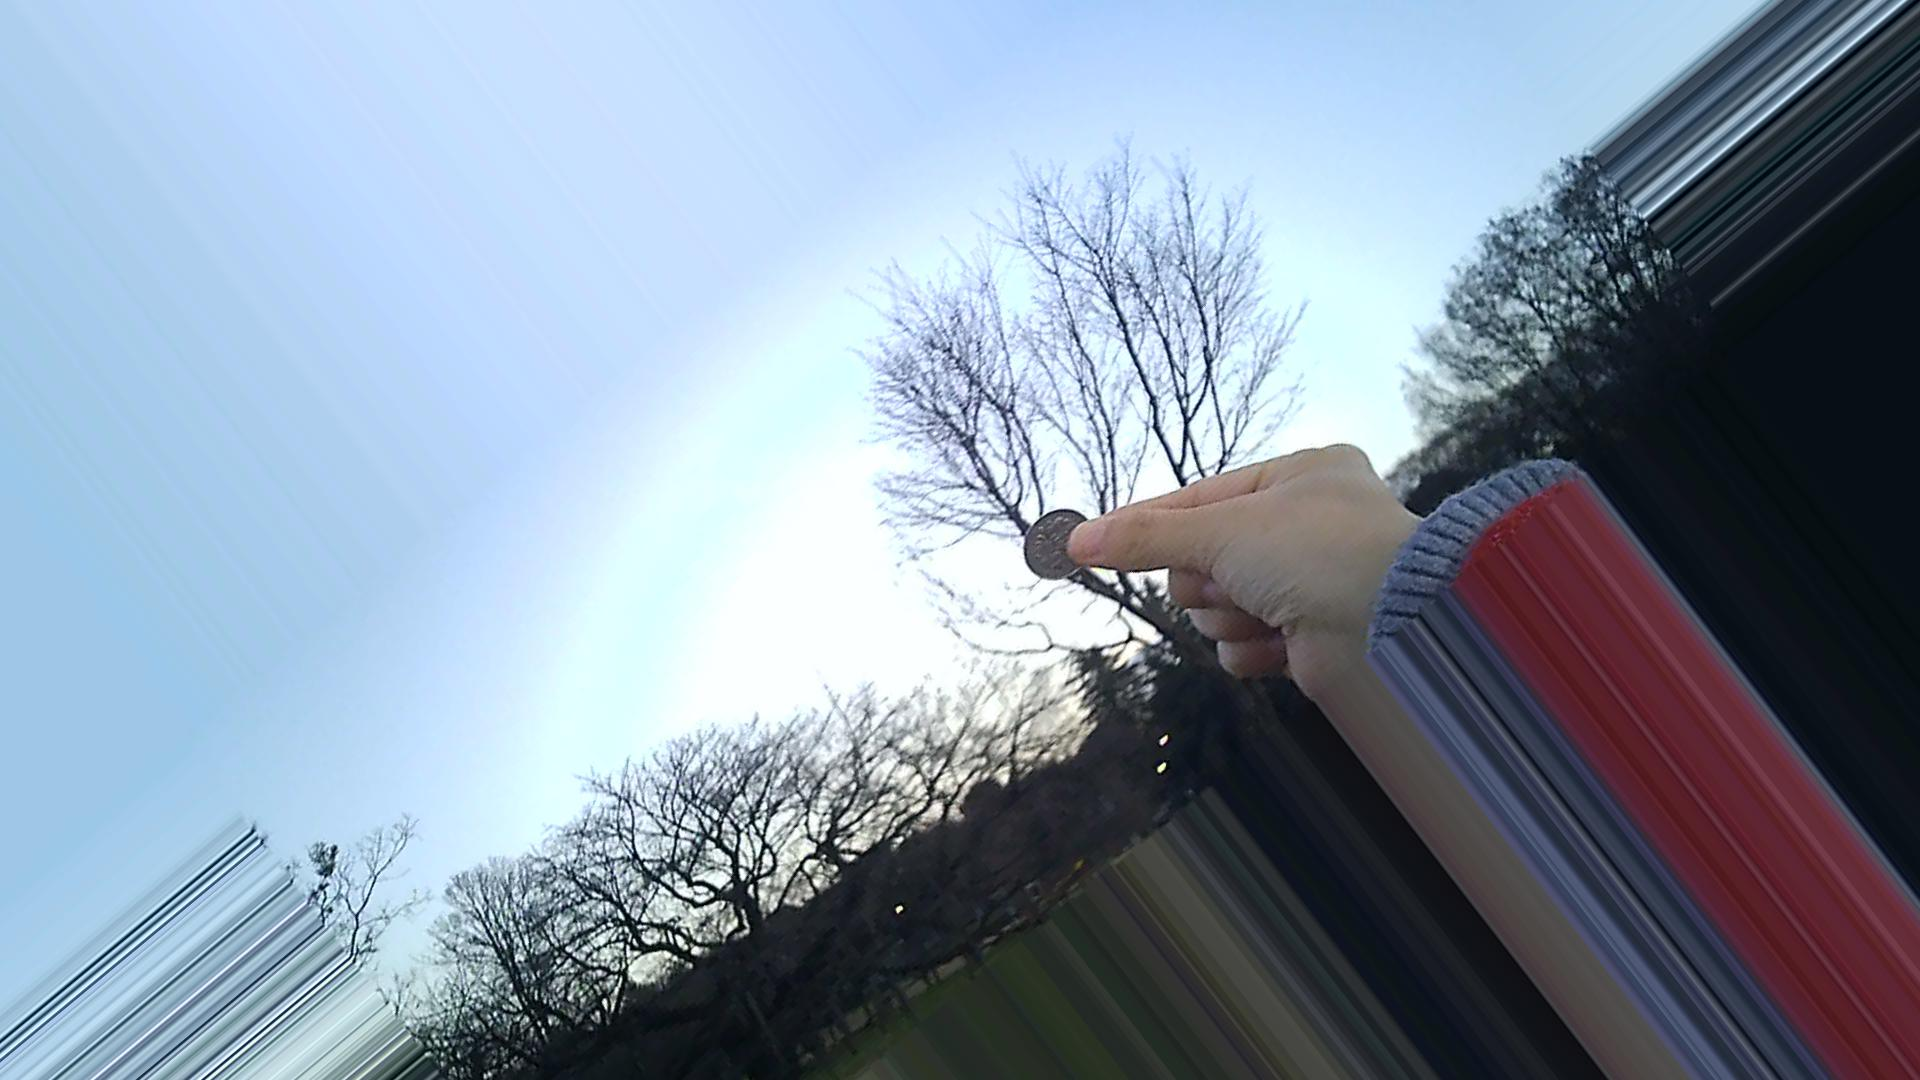100 Yen: (1021, 506, 1100, 582)
